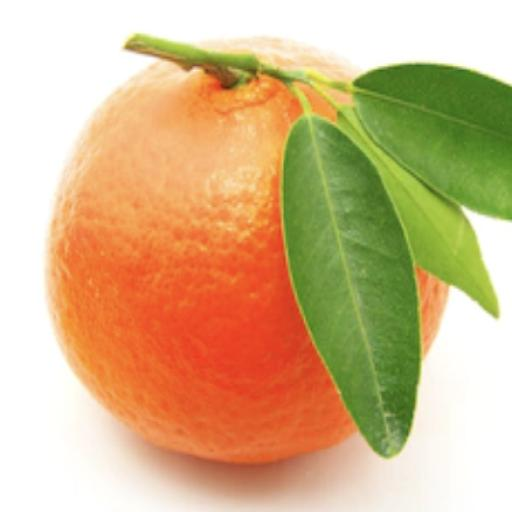orange: (47, 63, 355, 463)
